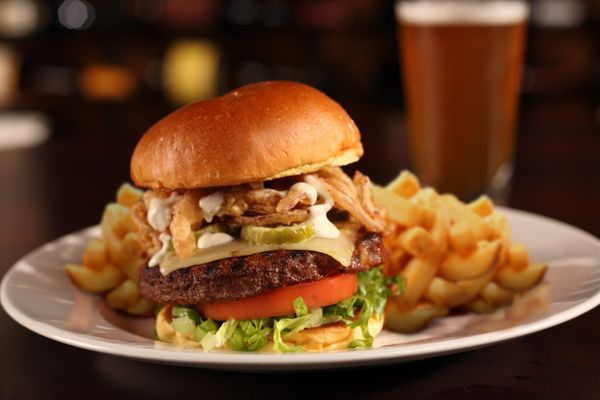soup: (117, 79, 390, 353)
